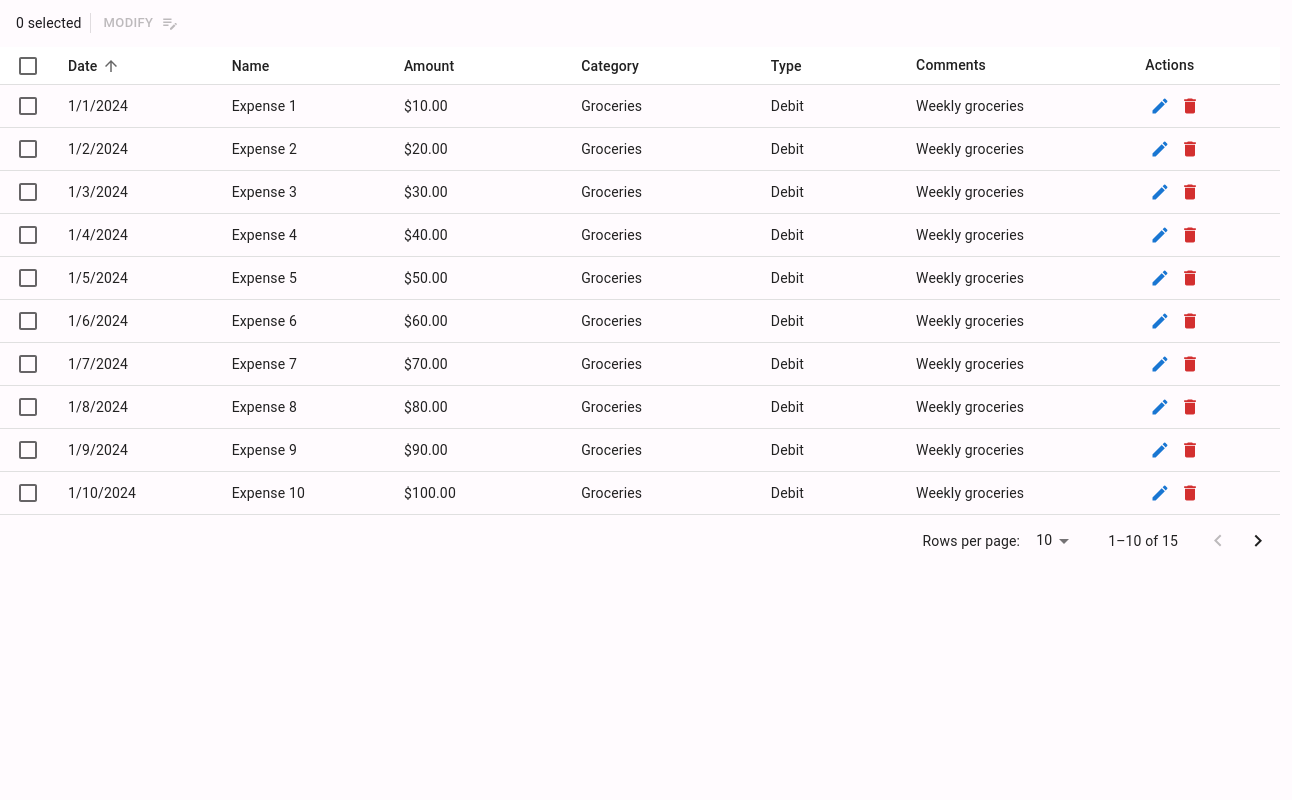
Test case: ImportReviewTable › partial selection consistency › should maintain selection count after page change
// Select items on page 1
Click the checkbox named "Select Expense 1" at [28, 106], box [16,94,40,118]
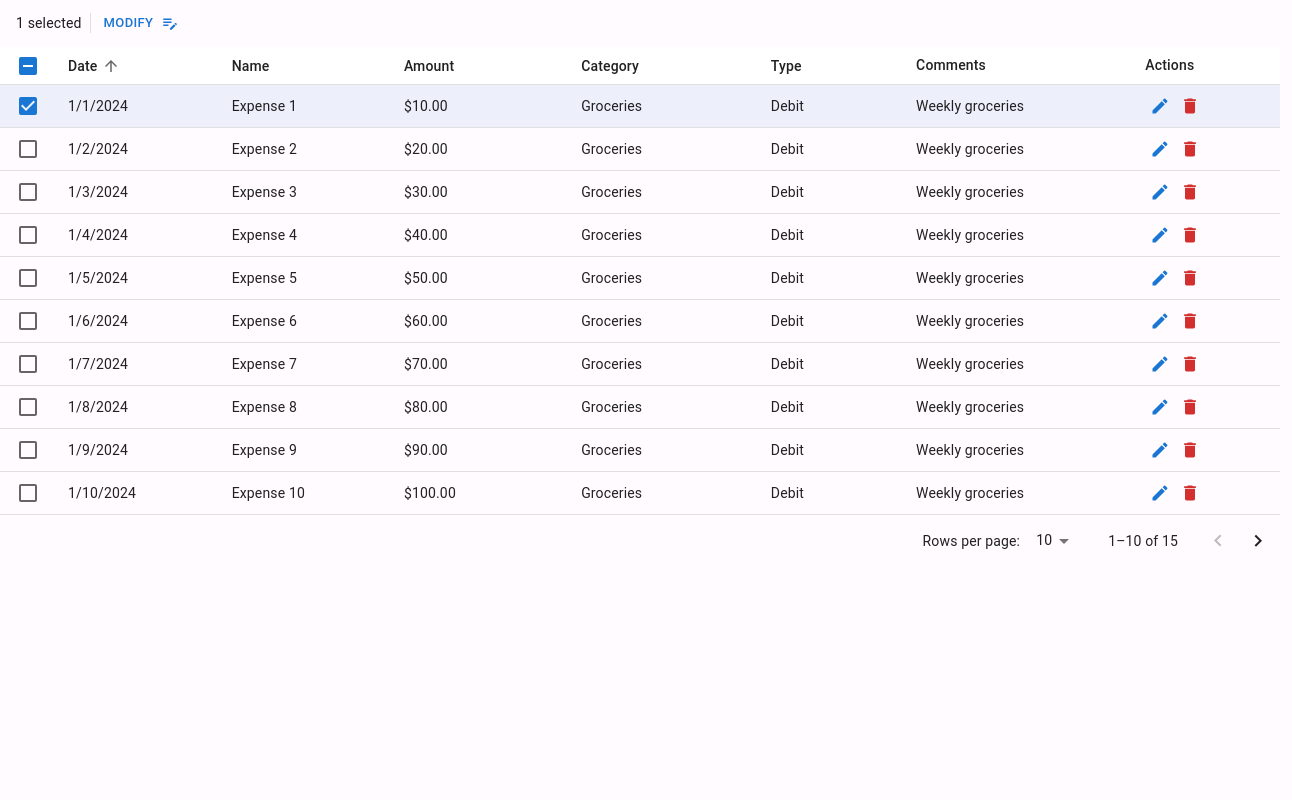
Click the checkbox named "Select Expense 2" at [28, 149], box [16,137,40,161]
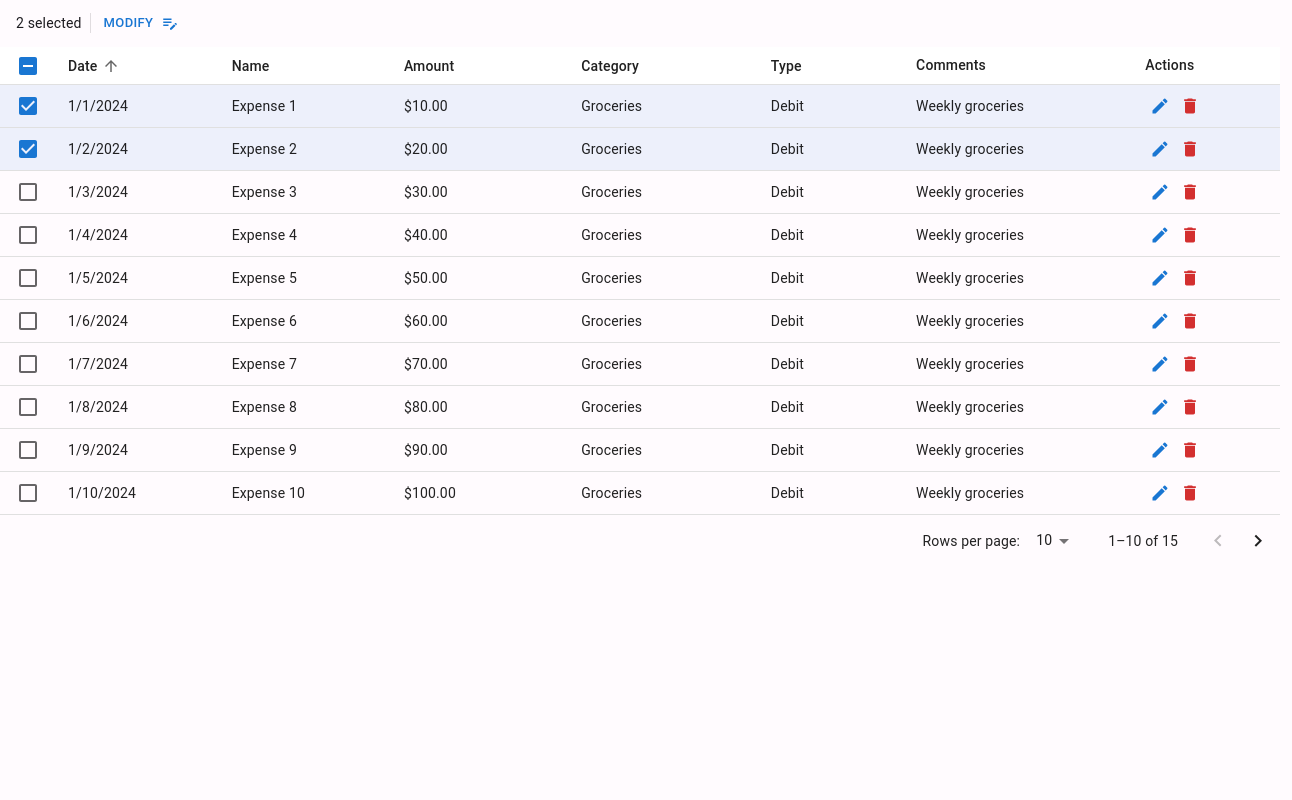
Check: the text "2 selected" is shown, box [16,13,91,33]
